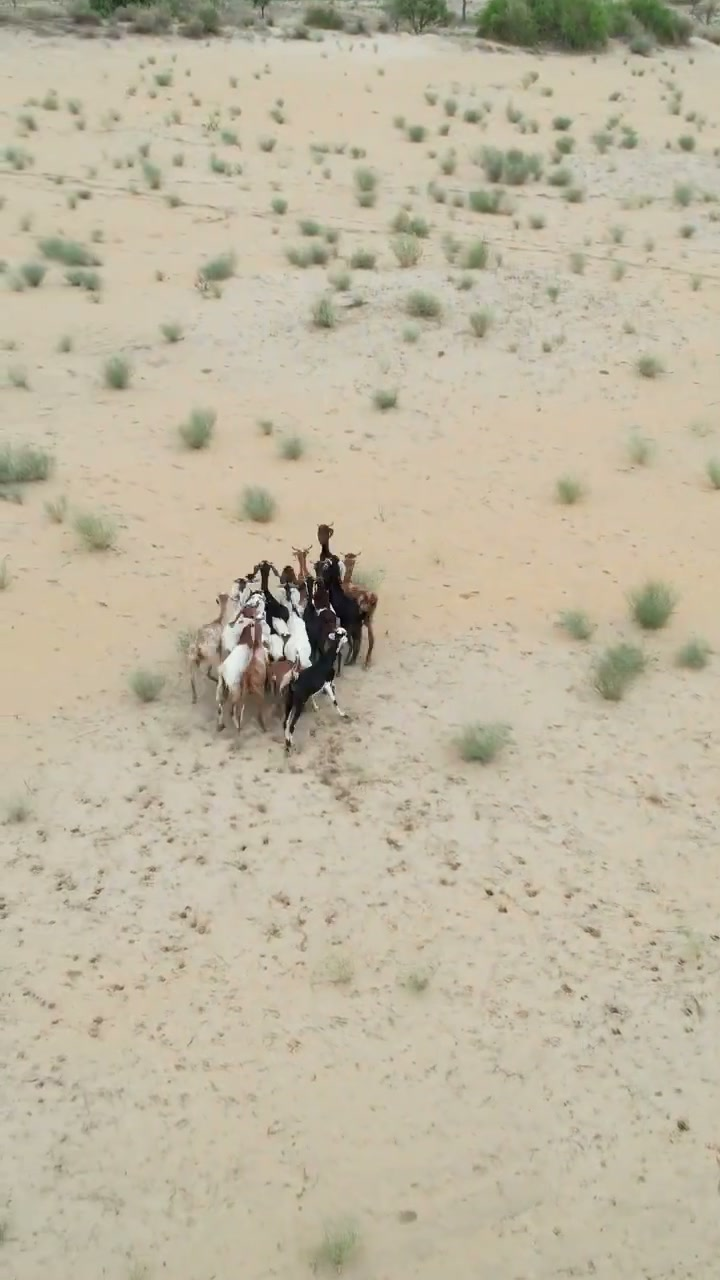animal_foot_print: (3, 734, 706, 1268)
